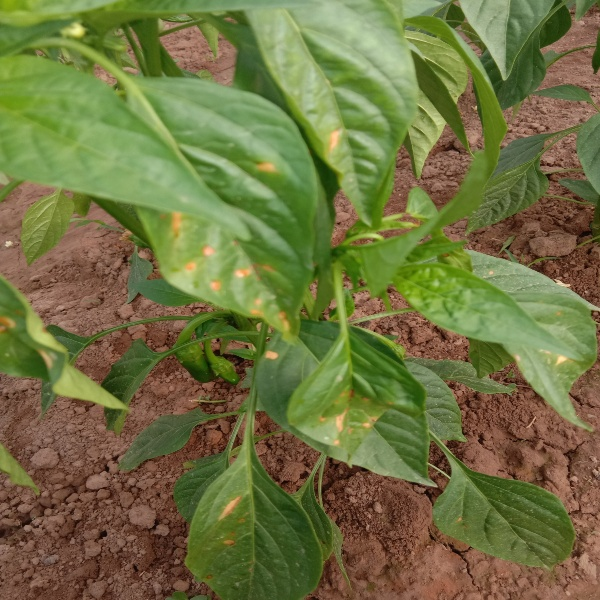Anthrax: (154, 160, 301, 333), (307, 384, 391, 456), (211, 495, 253, 550), (310, 116, 354, 163)
